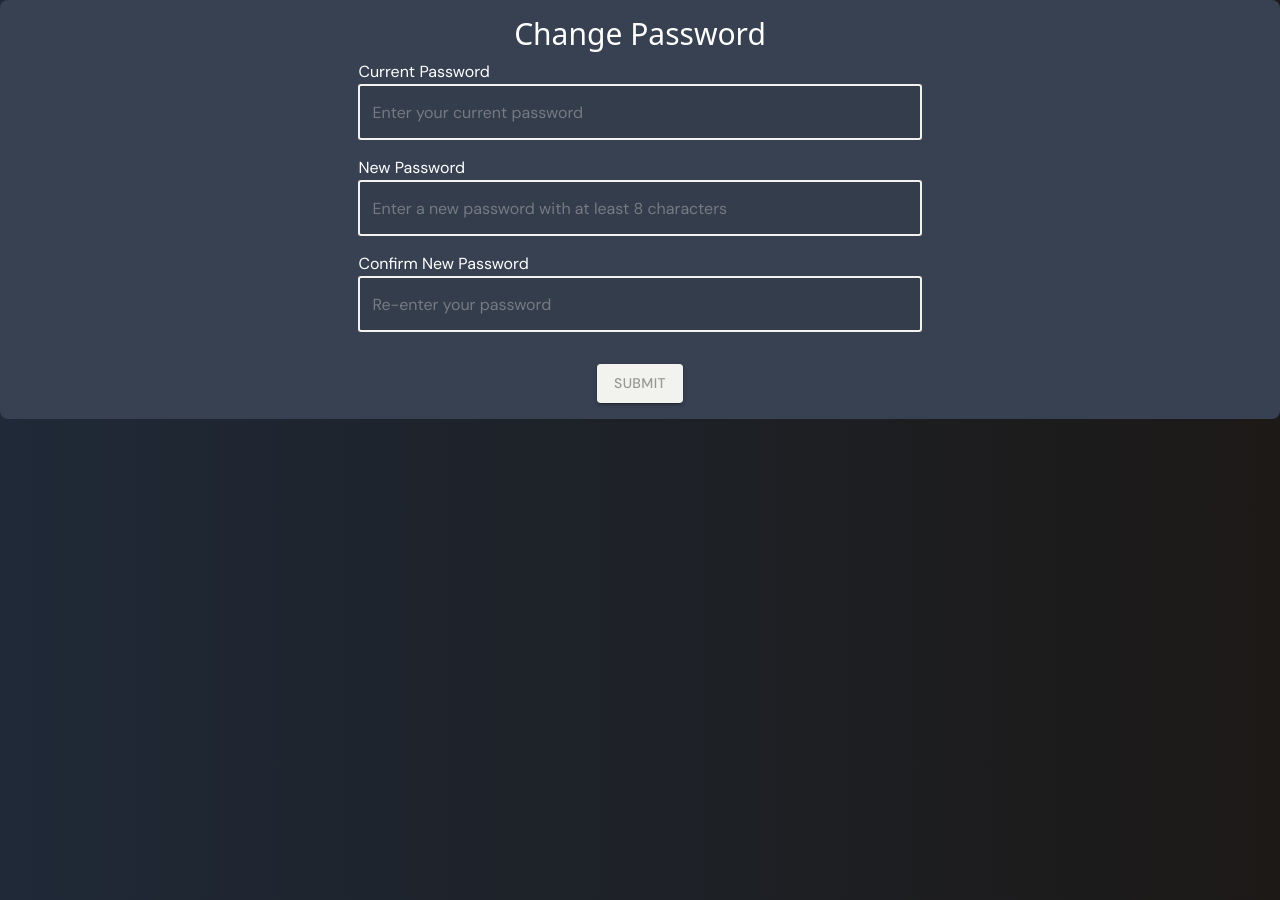
Test: ChangePassword › Displays error message when user enter invalid new password
This screenshot has width=1280, height=900.
Type "123" into the password field labelled "New Password".
click(640, 208); type("123")  # box left=358, top=180, right=922, bottom=236
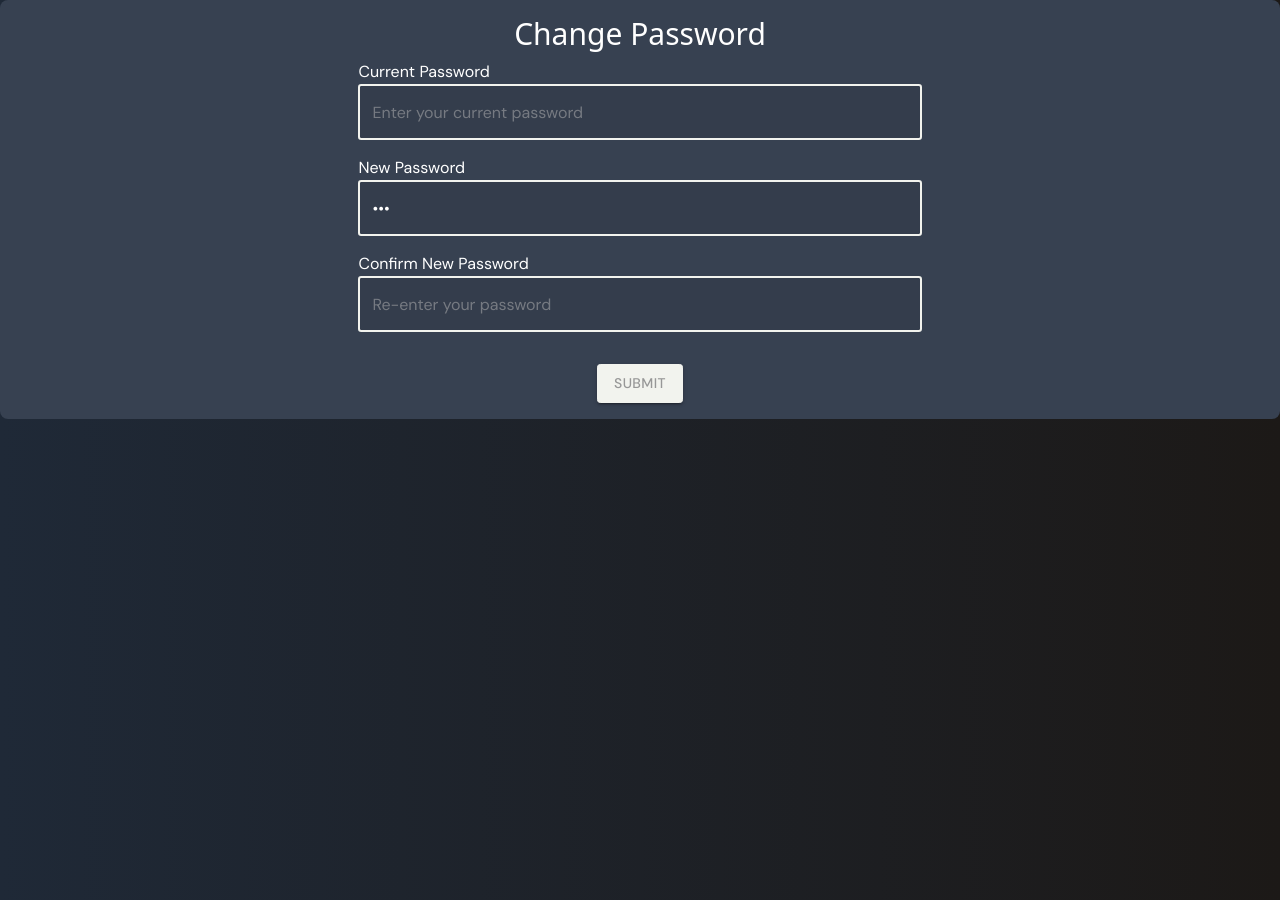
Leave the password field labelled "New Password", box left=358, top=180, right=922, bottom=236
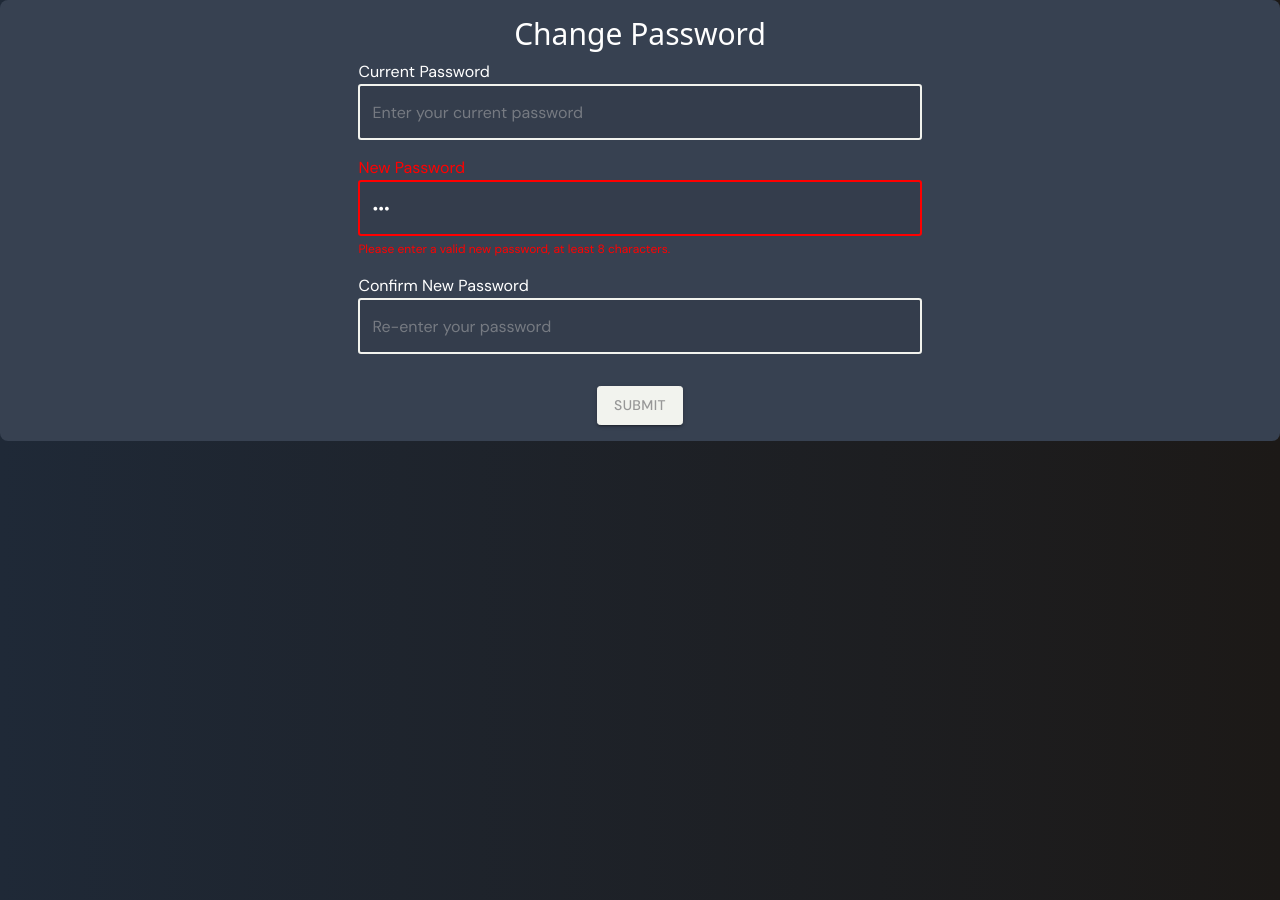
expect the text "Please enter a valid new password, at least 8 characters." is shown: met, box left=358, top=241, right=670, bottom=257
